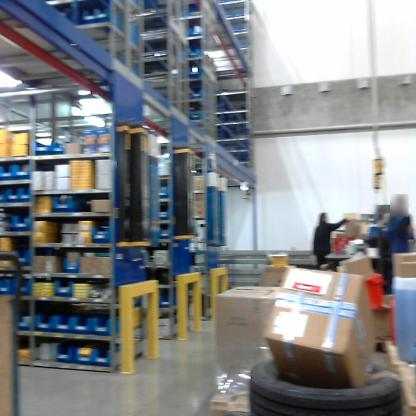small_load_carrier: (357, 266, 387, 313)
